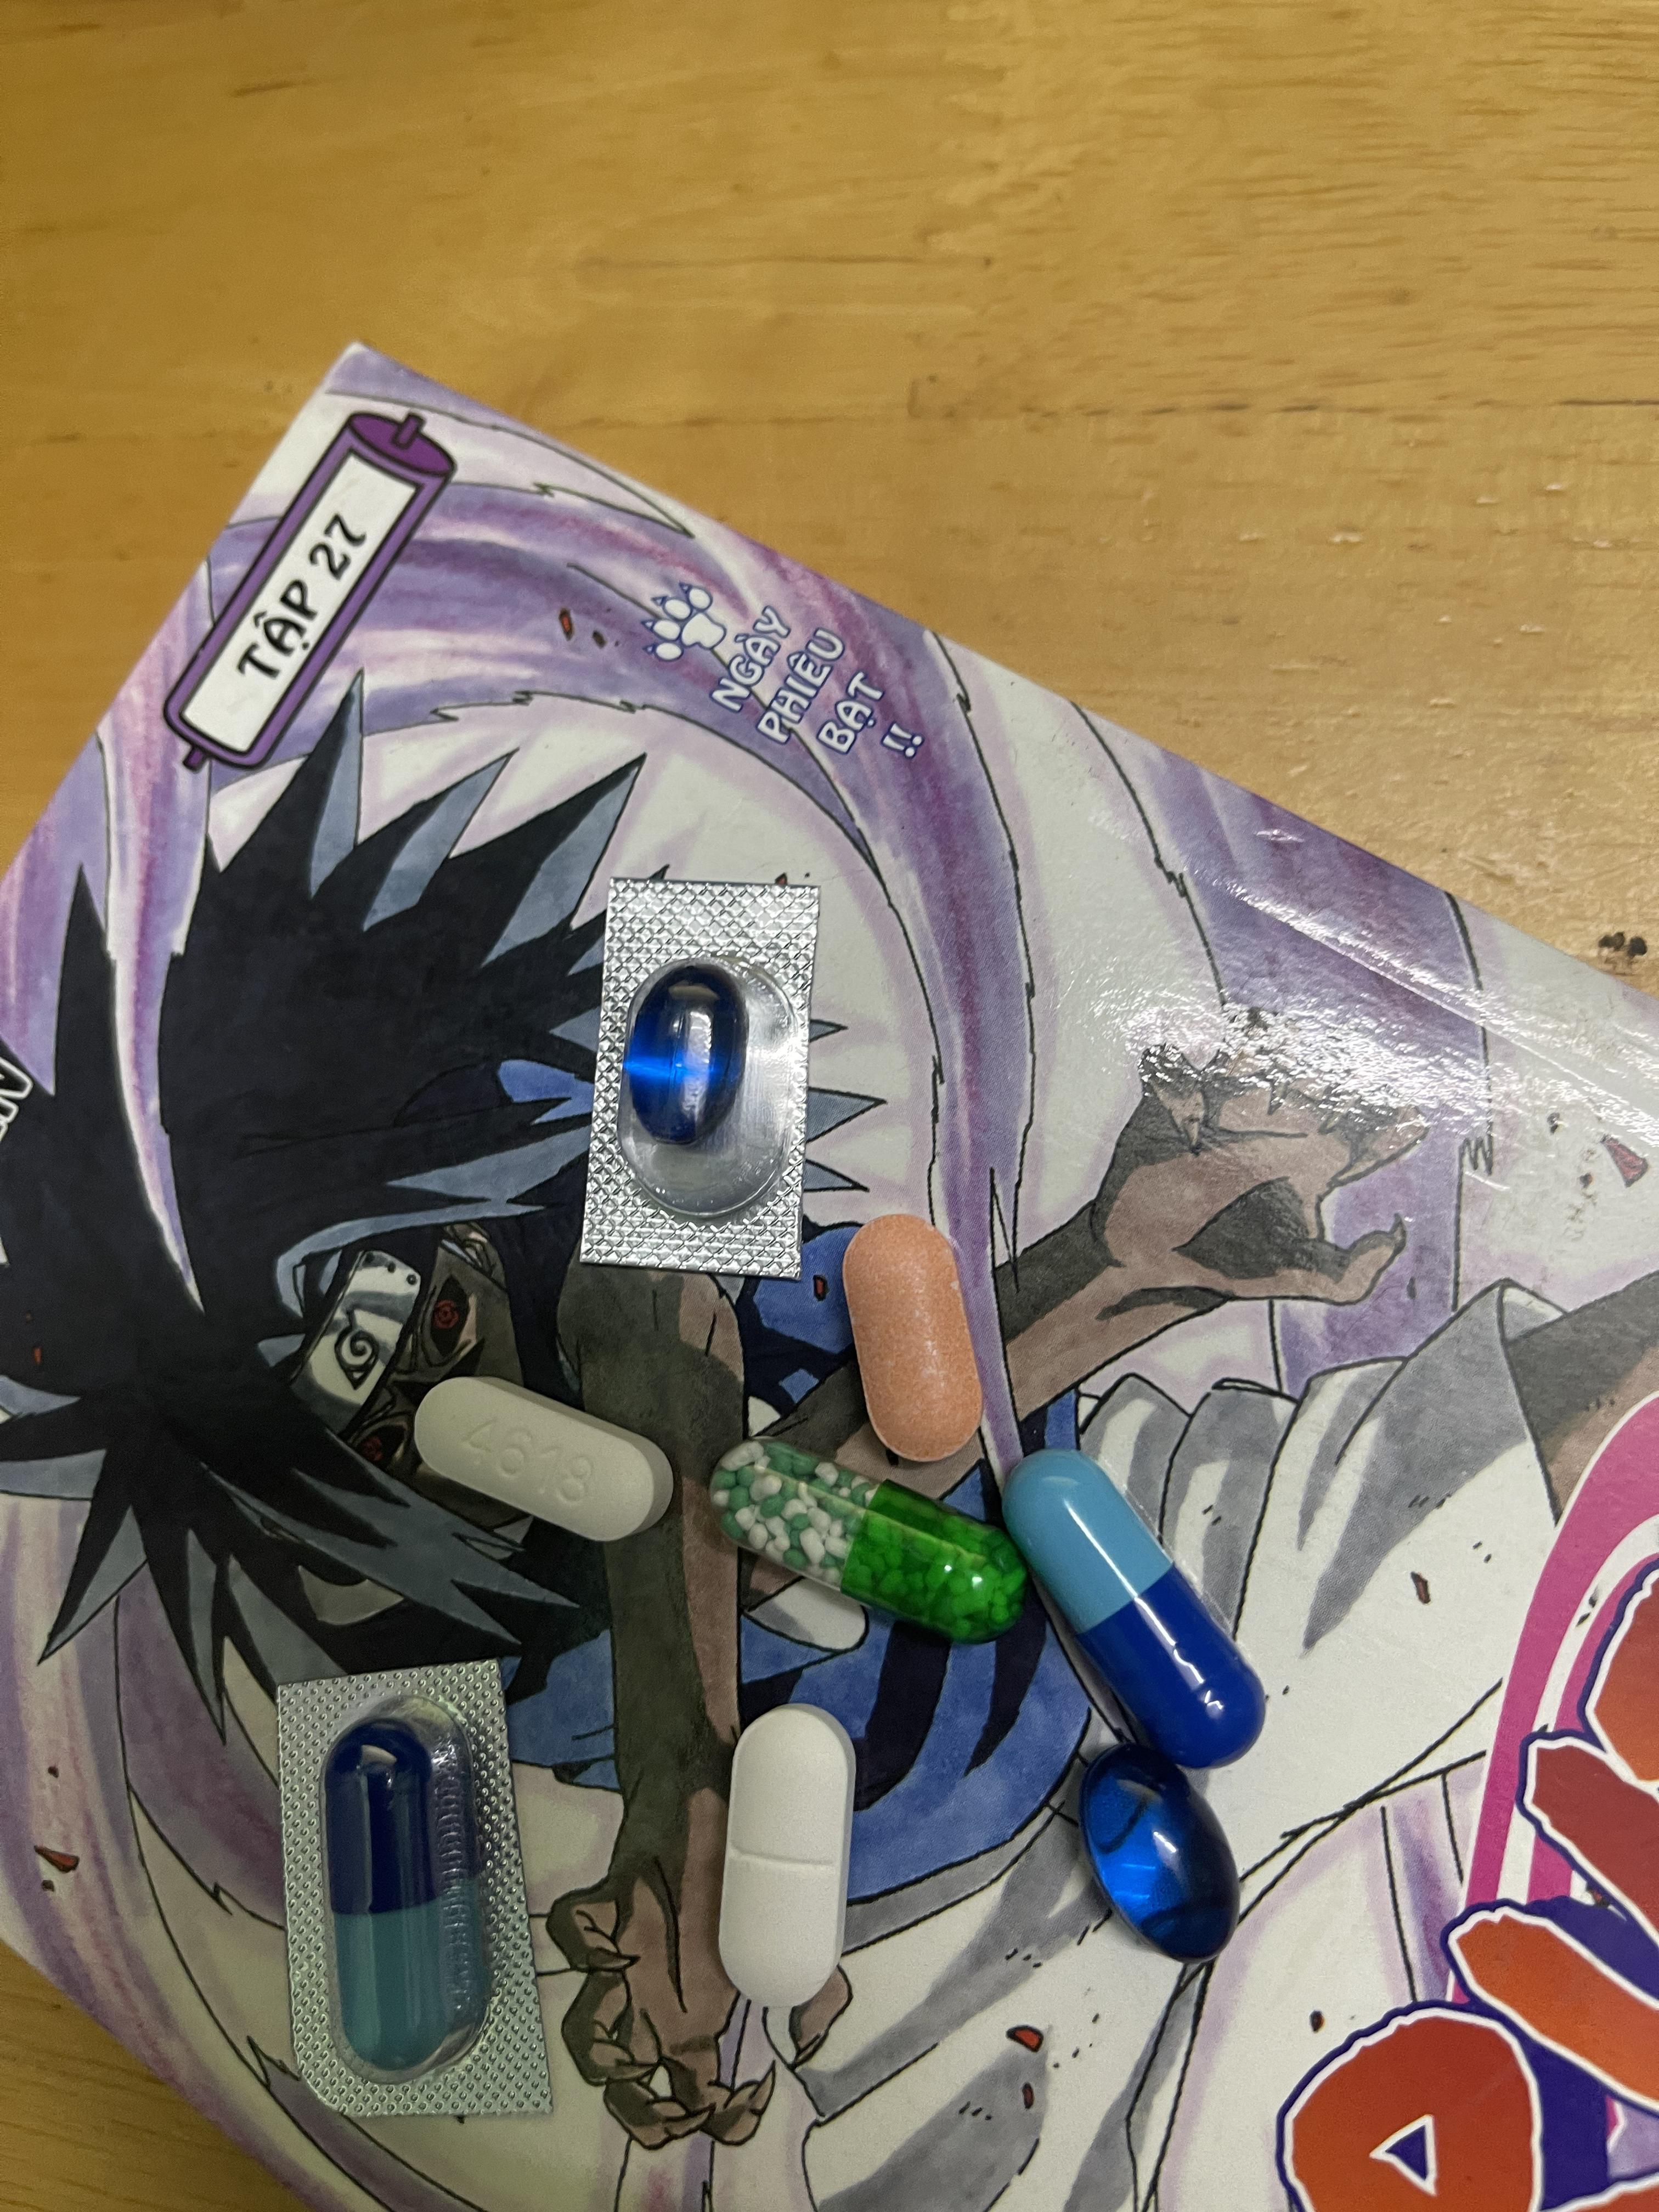Lincomyxin_500mg: (1084, 1745, 1241, 1963), (627, 968, 742, 1143)
Loratadine_10mg: (840, 1216, 985, 1467)
Paracetamol_350mg: (714, 1700, 857, 2010)
Paracetamol_500mg: (415, 1369, 678, 1543)
Paracetamol_650mg: (725, 1447, 1016, 1637)
pill: (1021, 1451, 1270, 1768), (322, 1698, 483, 2081)
